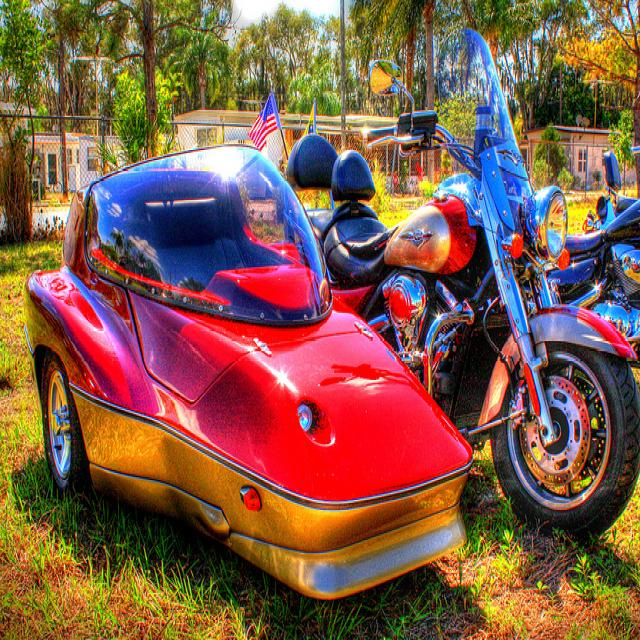motor: (285, 29, 640, 542), (553, 196, 640, 370)
